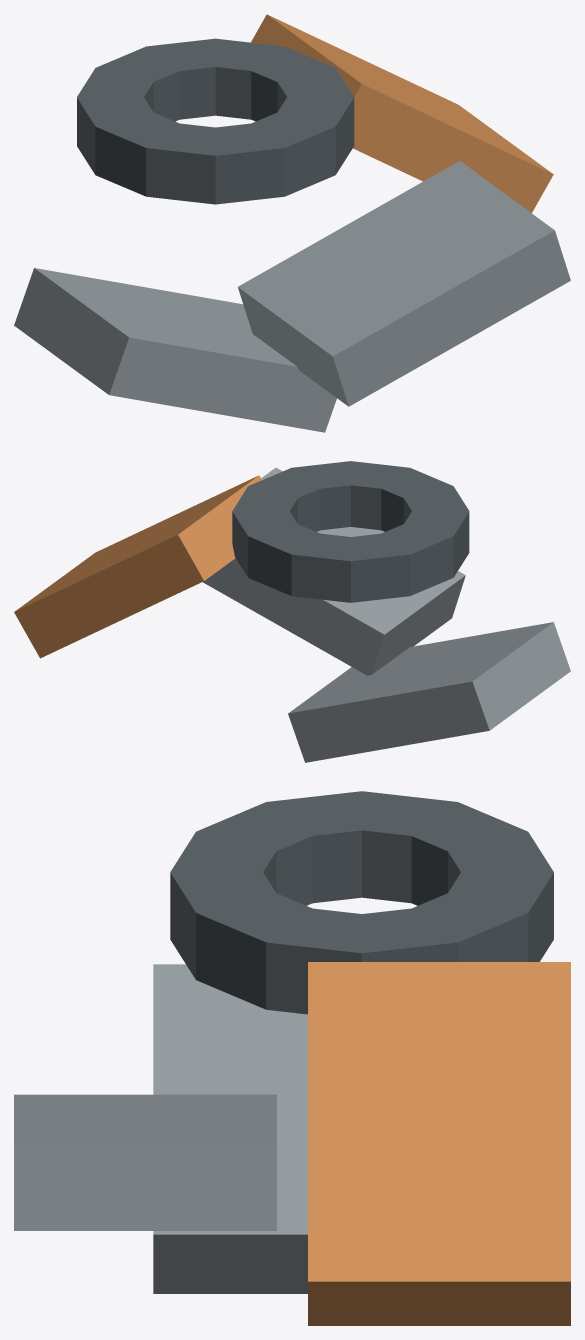
Rendered from scrap.glb.
The picture shows the model from 3 angles, top to bottom: view 1: azimuth 30°, elevation 25°; view 2: azimuth 150°, elevation 25°; view 3: azimuth 270°, elevation 25°; orthographic projection. The views are drawn at different scales.
Visible parts, largest first — view 1: scrap / Machined steel, scrap / Graphite enamel, scrap / Copper; view 2: scrap / Machined steel, scrap / Graphite enamel, scrap / Copper; view 3: scrap / Copper, scrap / Machined steel, scrap / Graphite enamel.
Part boxes in pixels (x1,y1,x2,y2): scrap / Machined steel: (14, 161, 570, 432); scrap / Graphite enamel: (77, 38, 354, 204); scrap / Copper: (251, 14, 553, 213); scrap / Machined steel: (202, 467, 570, 762); scrap / Graphite enamel: (232, 461, 469, 602); scrap / Copper: (14, 475, 261, 658); scrap / Copper: (308, 962, 570, 1325); scrap / Machined steel: (14, 964, 307, 1293); scrap / Graphite enamel: (170, 791, 553, 1014).
Size of the model in its own units: 0.2583 by 0.1423 by 0.18.
